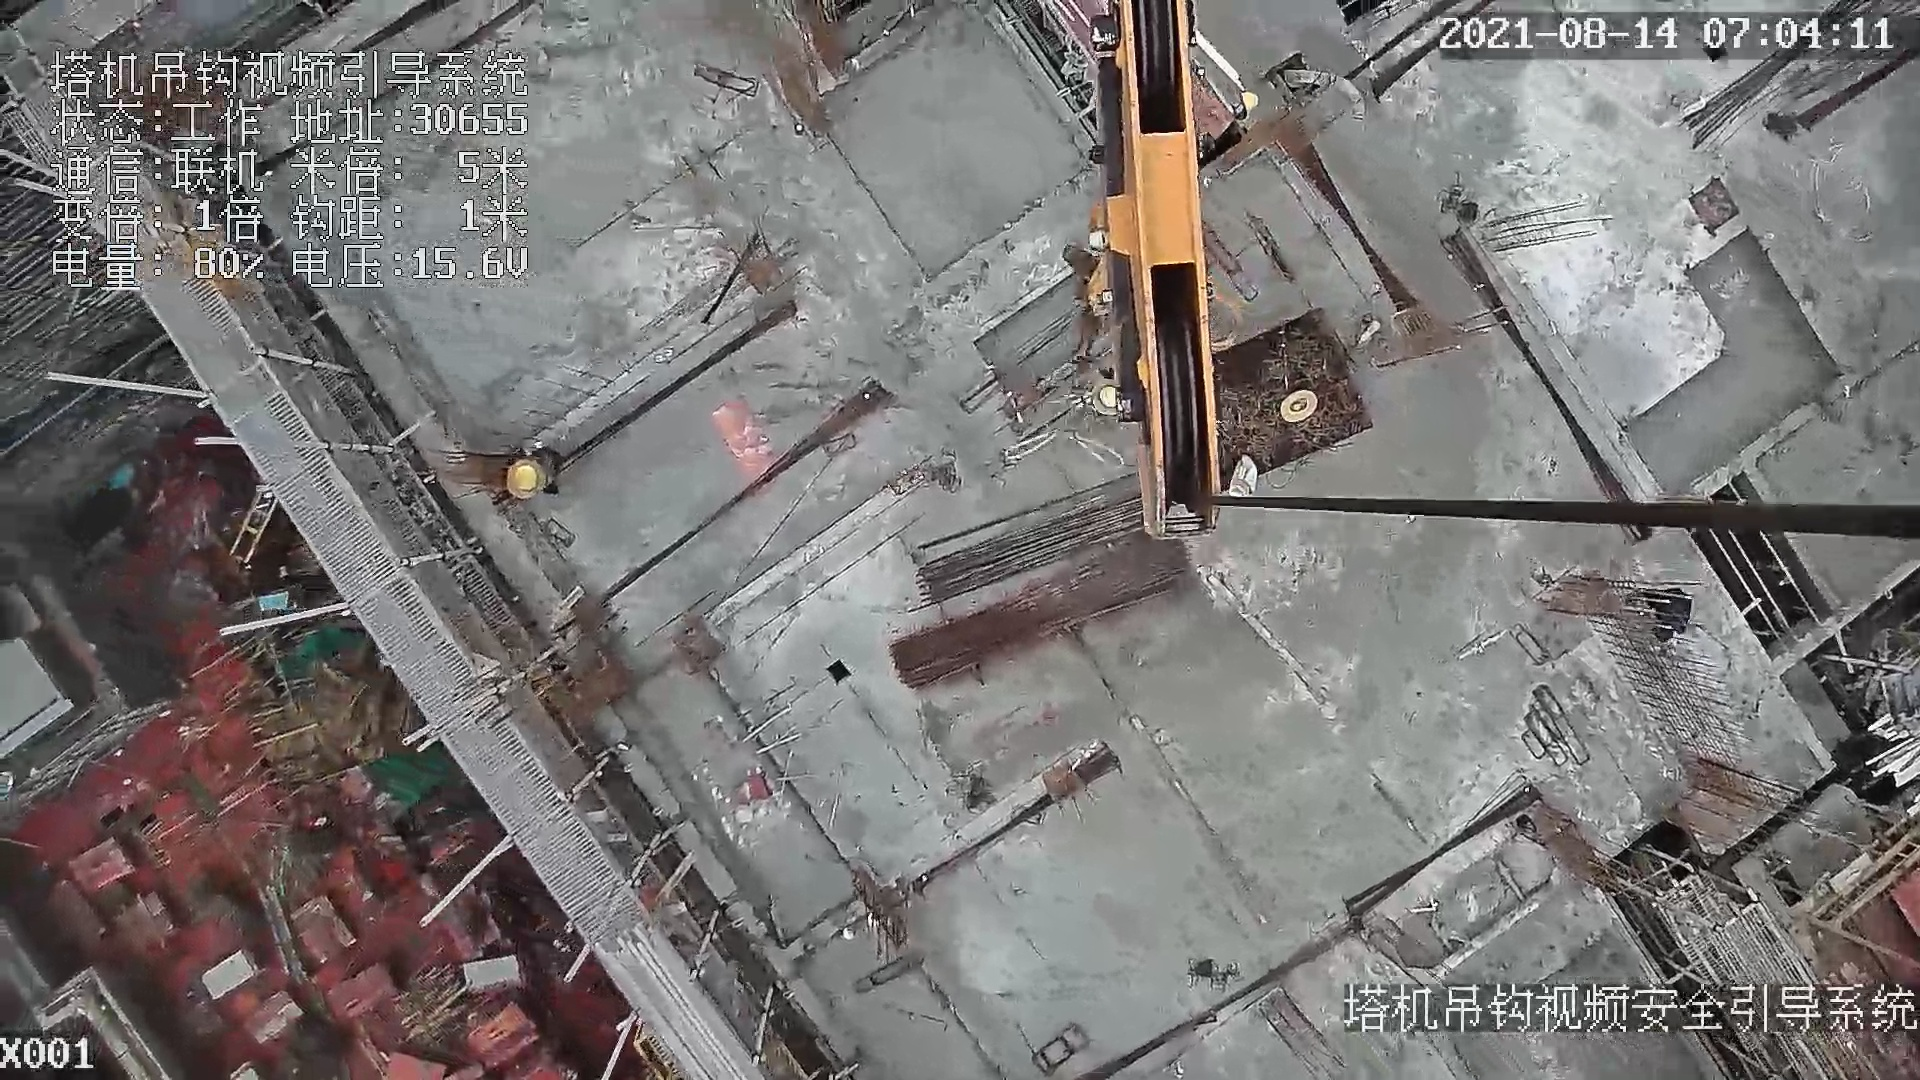hook: (1063, 1, 1227, 547)
person: (1636, 585, 1692, 644)
